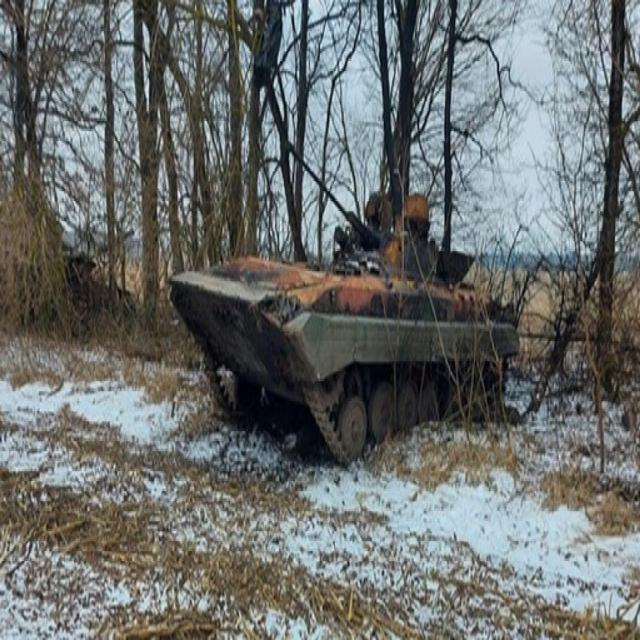APC-IFV: (162, 131, 522, 478)
